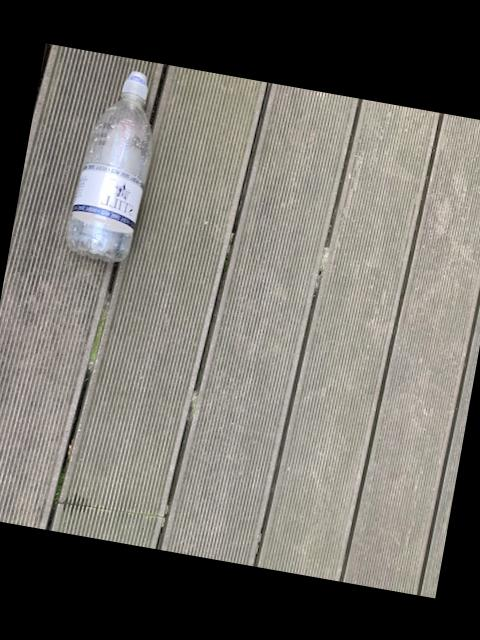plastic: (67, 72, 153, 262)
